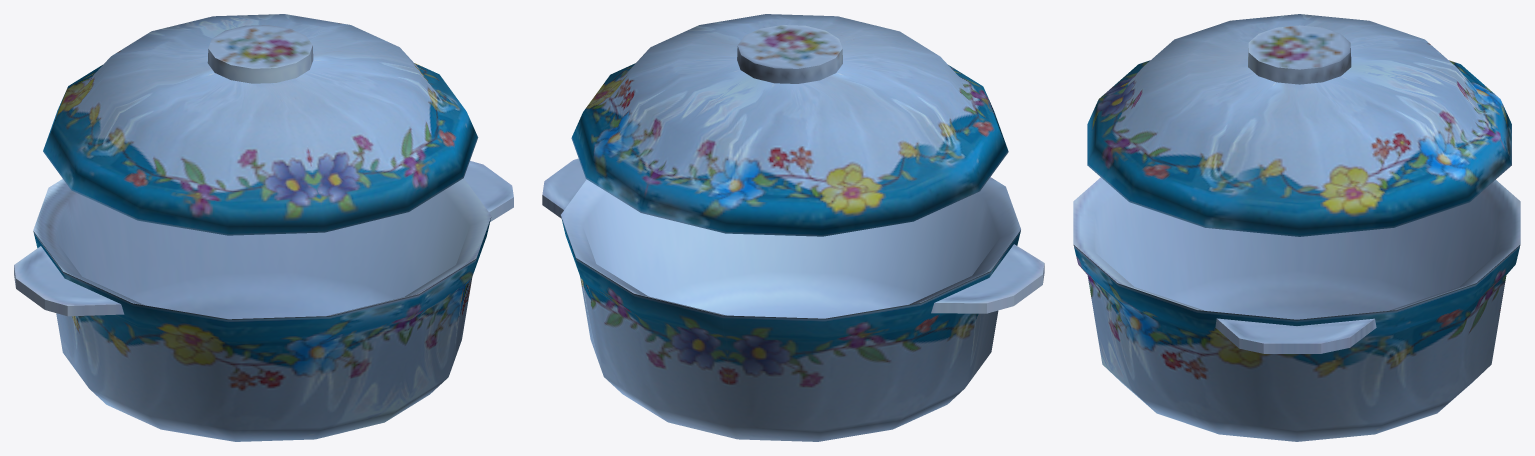
File: bowl-4.FBX
3 renders of one model, left to right at view 1: azimuth 30°, elevation 25°; view 2: azimuth 150°, elevation 25°; view 3: azimuth 270°, elevation 25°, orthographic.
Visible parts, largest first — view 1: bowl-4_LOD0, bowl-4_lid_LOD0; view 2: bowl-4_LOD0, bowl-4_lid_LOD0; view 3: bowl-4_LOD0, bowl-4_lid_LOD0.
Part boxes in pixels (box(x1,y1,x2,y2)): bowl-4_LOD0: box(14, 161, 513, 441); bowl-4_lid_LOD0: box(43, 14, 478, 235); bowl-4_LOD0: box(542, 158, 1044, 441); bowl-4_lid_LOD0: box(571, 14, 1008, 236); bowl-4_LOD0: box(1073, 177, 1520, 441); bowl-4_lid_LOD0: box(1087, 14, 1511, 236).
Size of what is drawn, in the model's own units: 18.02 by 12.1 by 14.96.
